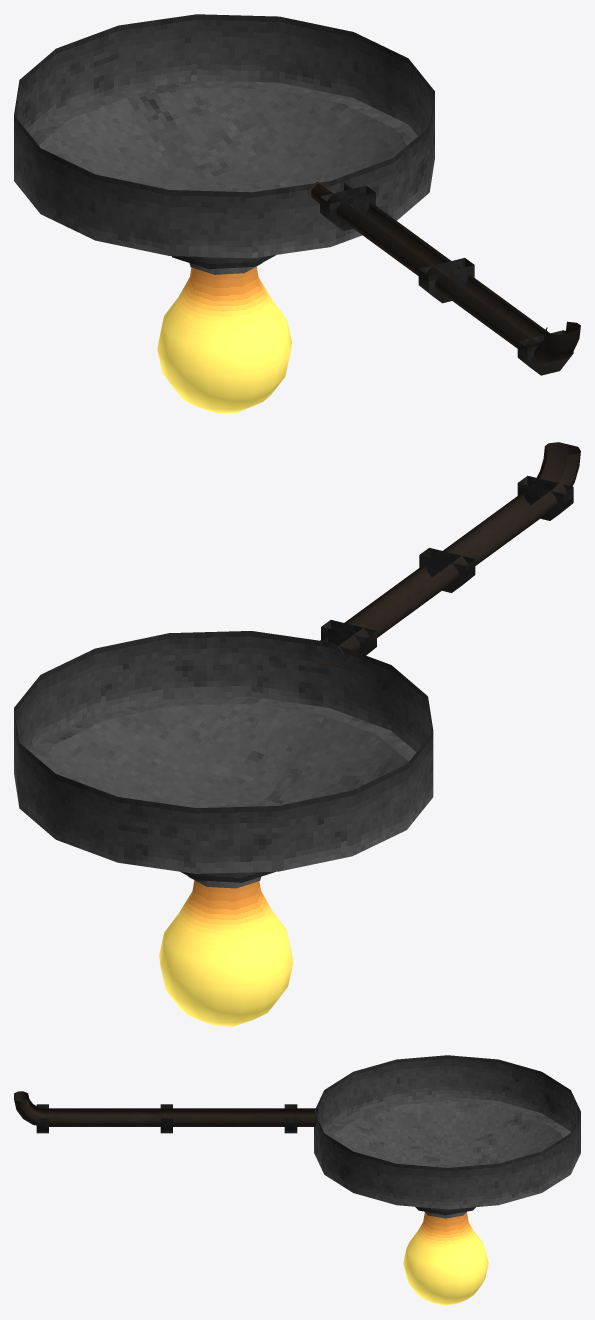
File: ceiling_lamp_mp_1_on.glb
3 renders of one model, top to bottom at view 1: azimuth 30°, elevation 25°; view 2: azimuth 150°, elevation 25°; view 3: azimuth 270°, elevation 25°, orthographic. The views are drawn at different scales.
Visible parts, largest first — view 1: ceiling_lamp_mp_1_on; view 2: ceiling_lamp_mp_1_on; view 3: ceiling_lamp_mp_1_on.
Part boxes in pixels (box(x1,y1,x2,y2)): ceiling_lamp_mp_1_on: box(14, 14, 580, 413); ceiling_lamp_mp_1_on: box(14, 442, 580, 1026); ceiling_lamp_mp_1_on: box(14, 1055, 580, 1305).
Size of the model in its own units: 0.215 by 0.1827 by 0.4568.
Materials: 4 (4 with a texture image).
